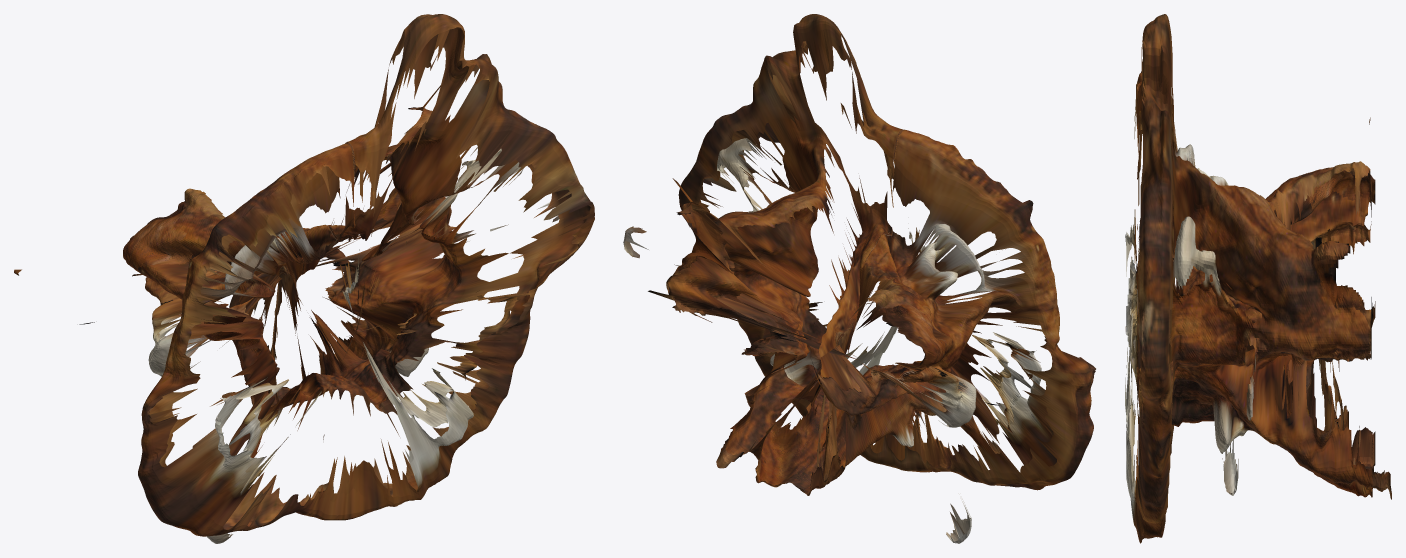
The picture shows the model from 3 angles, left to right: view 1: azimuth 30°, elevation 25°; view 2: azimuth 150°, elevation 25°; view 3: azimuth 270°, elevation 25°; orthographic projection. The views are drawn at different scales.
Parts seen in each view (by area): view 1: geometry_0; view 2: geometry_0; view 3: geometry_0.
Part boxes in pixels (x1=…): geometry_0: x1=14, y1=14, x2=594, y2=543; geometry_0: x1=623, y1=14, x2=1095, y2=543; geometry_0: x1=1125, y1=14, x2=1391, y2=543.
Bounding box in the file's own units: 1.61 × 1.56 × 0.6575.
Materials: 1 (1 with a texture image).
